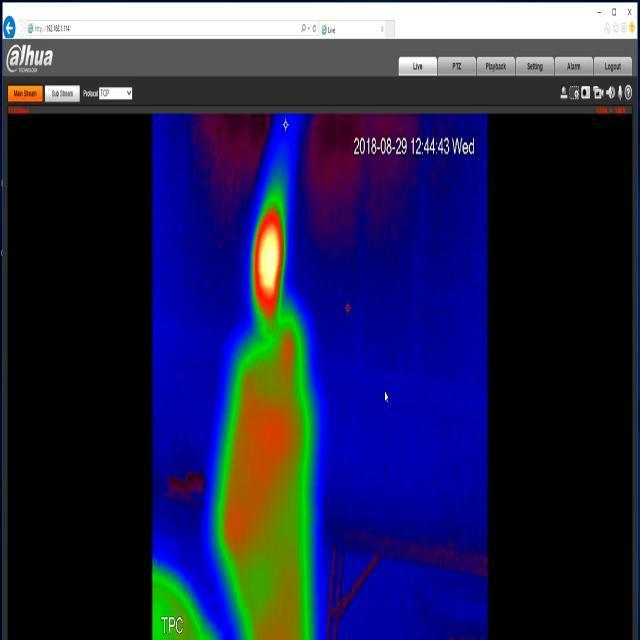fire: (251, 182, 289, 328)
